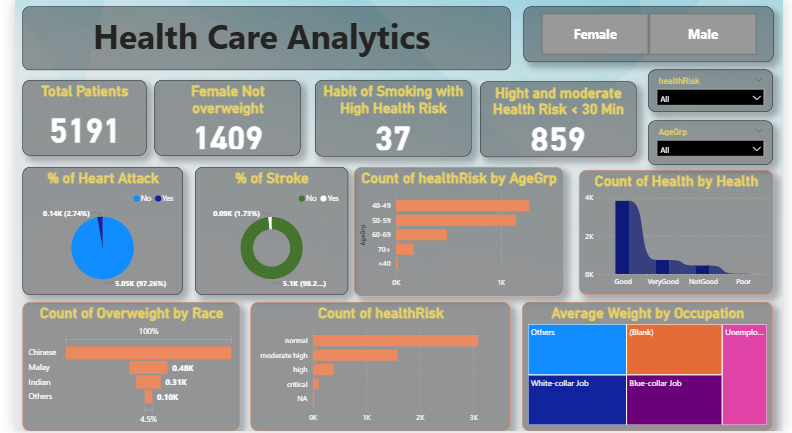

The dashboard page shown, as its layout file describes it:
{"tool":"powerbi","page":{"name":"Page 1","canvas":[1280,720],"ordinal":0},"visuals":[{"type":"card","title":"Total Patients ","fields":{"Values":["CountNonNull(Table1.scnZone)"]},"box":[13.4,136.1,206.6,126],"z":0},{"type":"pieChart","title":"% of Heart Attack ","fields":{"Category":["Table1.HeartAttack"],"Y":["CountNonNull(Table1.HeartAttack)"]},"box":[13.4,280.5,267.1,213.3],"z":1000},{"type":"donutChart","title":"% of Stroke ","fields":{"Category":["Table1.Stroke"],"Y":["CountNonNull(Table1.Stroke)"]},"box":[299,280.5,255.3,213.3],"z":2000},{"type":"card","title":"Female Not overweight ","fields":{"Values":["CountNonNull(Table1.Overweight)"]},"box":[233.5,136.1,243.6,126],"z":3000},{"type":"clusteredBarChart","title":"Count of healthRisk","fields":{"Category":["Table1.healthRisk"],"Y":["CountNonNull(Table1.healthRisk)"]},"box":[393.1,505.6,433.4,215],"z":4000},{"type":"treemap","title":"Average Weight by Occupation","fields":{"Group":["Table1.OccupationType"],"Values":["Avg(Table1.Weight)"]},"box":[844.9,505.6,418.3,215],"z":5000},{"type":"funnel","fields":{"Category":["Table1.Race"],"Y":["CountNonNull(Table1.Overweight)"]},"box":[13.4,505.6,362.8,215],"z":6000},{"type":"barChart","fields":{"Category":["Table1.AgeGrp"],"Y":["CountNonNull(Table1.healthRisk)"]},"box":[566.1,280.5,349.4,215],"z":7000},{"type":"card","title":"Habit of Smoking with High Health Risk","fields":{"Values":["CountNonNull(Table1.Smoking)"]},"box":[498.9,136.1,260.4,127.7],"z":8000},{"type":"card","title":"Hight and moderate Health Risk < 30 Min","fields":{"Values":["CountNonNull(Table1.Exercise)"]},"box":[774.4,137.7,260.4,126],"z":9000},{"type":"slicer","fields":{"Values":["Table1.Gender"]},"box":[846.6,11.8,416.6,92.4],"z":10000},{"type":"slicer","fields":{"Values":["Table1.healthRisk"]},"box":[1054.9,117.6,208.3,70.6],"z":11000},{"type":"slicer","fields":{"Values":["Table1.AgeGrp"]},"box":[1054.9,201.6,208.3,73.9],"z":12000},{"type":"ribbonChart","fields":{"Category":["Table1.Health"],"Y":["CountNonNull(Table1.Health)"]},"box":[939,283.9,324.2,208.3],"z":13000},{"type":"textbox","box":[13.4,11.8,813,105.8],"z":14000}]}

Visuals, with their boxes in screenshot pixels (x1, y1, x2, y2), scaled from the page's 1280x720 canvas onto the 792x433 screenshot:
"Total Patients " card: [left=8, top=82, right=136, bottom=158]
"% of Heart Attack " pieChart: [left=8, top=169, right=174, bottom=297]
"% of Stroke " donutChart: [left=185, top=169, right=343, bottom=297]
"Female Not overweight " card: [left=144, top=82, right=295, bottom=158]
"Count of healthRisk" clusteredBarChart: [left=243, top=304, right=511, bottom=432]
"Average Weight by Occupation" treemap: [left=523, top=304, right=782, bottom=432]
funnel - Table1.Race x CountNonNull(Table1.Overweight): [left=8, top=304, right=233, bottom=432]
barChart - Table1.AgeGrp x CountNonNull(Table1.healthRisk): [left=350, top=169, right=566, bottom=298]
"Habit of Smoking with High Health Risk" card: [left=309, top=82, right=470, bottom=159]
"Hight and moderate Health Risk < 30 Min" card: [left=479, top=83, right=640, bottom=159]
slicer - Table1.Gender: [left=524, top=7, right=782, bottom=63]
slicer - Table1.healthRisk: [left=653, top=71, right=782, bottom=113]
slicer - Table1.AgeGrp: [left=653, top=121, right=782, bottom=166]
ribbonChart - Table1.Health x CountNonNull(Table1.Health): [left=581, top=171, right=782, bottom=296]
textbox: [left=8, top=7, right=511, bottom=71]
